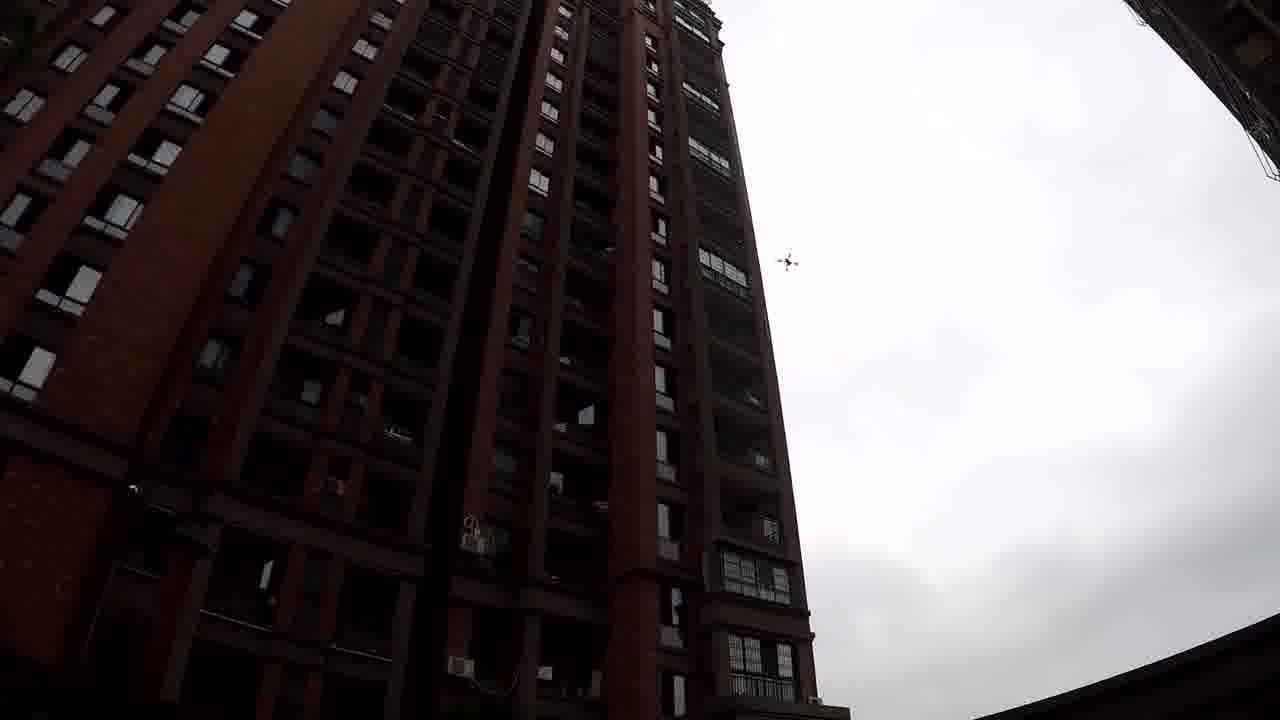drone: (769, 235, 802, 285)
